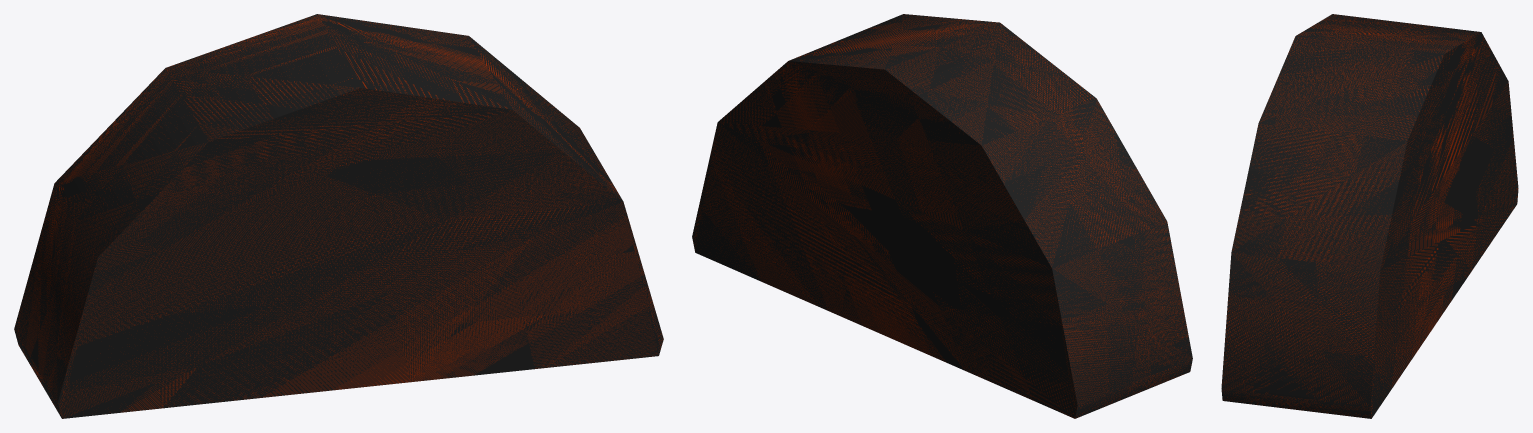
The model's file is original-37.obj.
3 renders of one model, left to right at view 1: azimuth 30°, elevation 25°; view 2: azimuth 150°, elevation 25°; view 3: azimuth 270°, elevation 25°, orthographic. The views are drawn at different scales.
Parts seen in each view (by area): view 1: mesh49/mesh49-geometry#mesh49-geometry; view 2: mesh49/mesh49-geometry#mesh49-geometry; view 3: mesh49/mesh49-geometry#mesh49-geometry.
Part boxes in pixels (box(x1,y1,x2,y2)): mesh49/mesh49-geometry#mesh49-geometry: box(14, 14, 663, 418); mesh49/mesh49-geometry#mesh49-geometry: box(692, 14, 1192, 418); mesh49/mesh49-geometry#mesh49-geometry: box(1221, 14, 1518, 418).
Bounding box in the file's own units: 0.0992 × 0.0504 × 0.0527.
